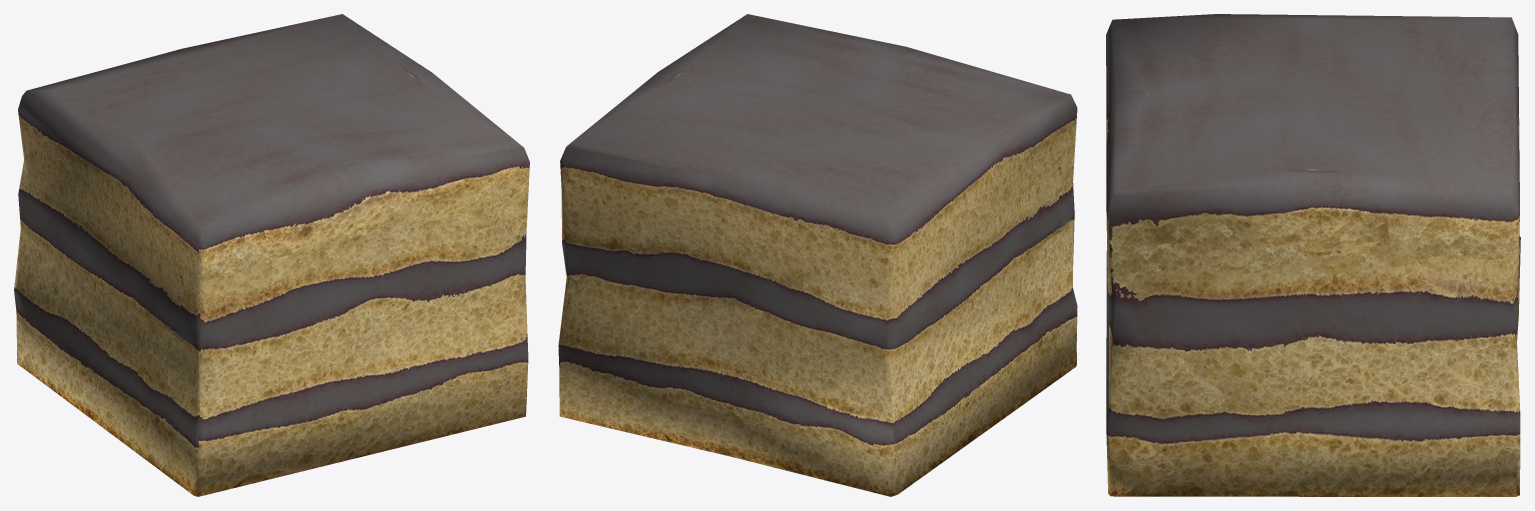
Rendered from Cake.FBX.
The picture shows the model from 3 angles, left to right: view 1: azimuth 30°, elevation 25°; view 2: azimuth 150°, elevation 25°; view 3: azimuth 270°, elevation 25°; orthographic projection. The views are drawn at different scales.
Parts seen in each view (by area): view 1: cake; view 2: cake; view 3: cake.
Part boxes in pixels (x1,y1,x2,y2): cake: [14, 14, 529, 496]; cake: [558, 14, 1077, 496]; cake: [1106, 14, 1520, 496].
Bounding box in the file's own units: 8.34 × 6.77 × 7.98.
Materials: 1 (1 with a texture image).
